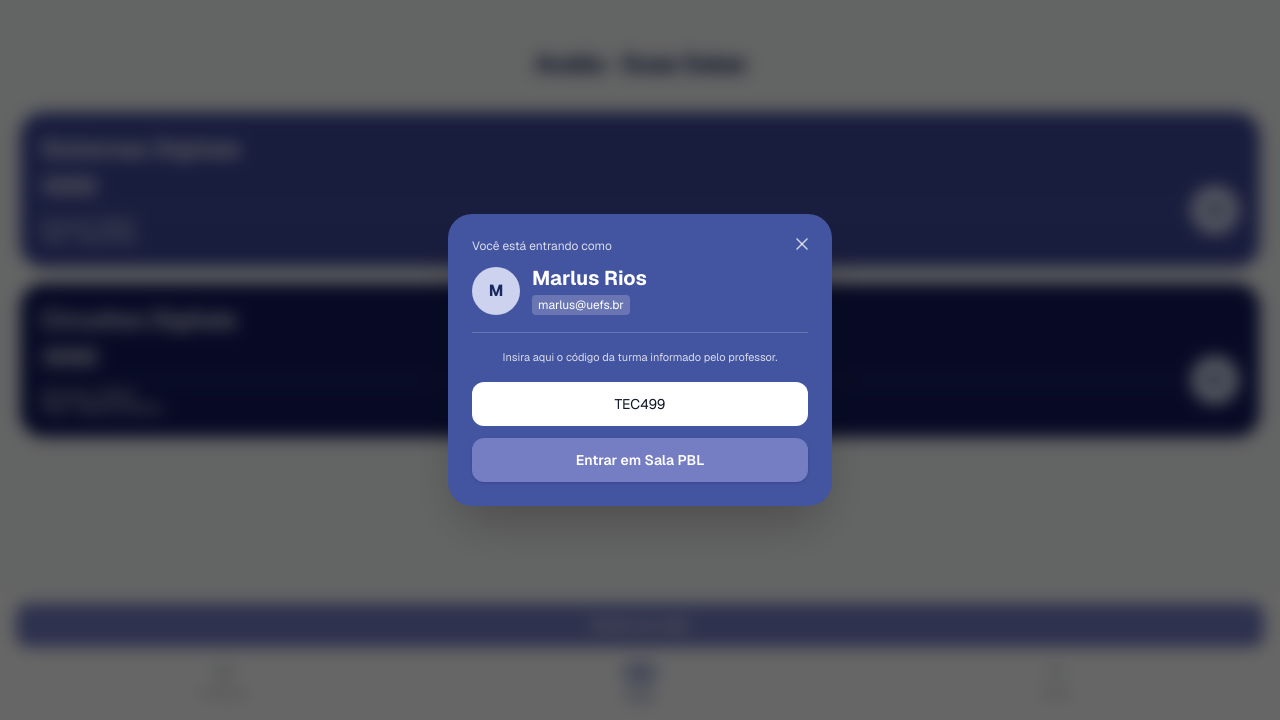
[US04] Integração da página de salas do aluno › Deve entrar pelo link de convite sem digitar o código
Click the button "Entrar em Sala PBL" at point(640, 460), box [472,438,808,482]
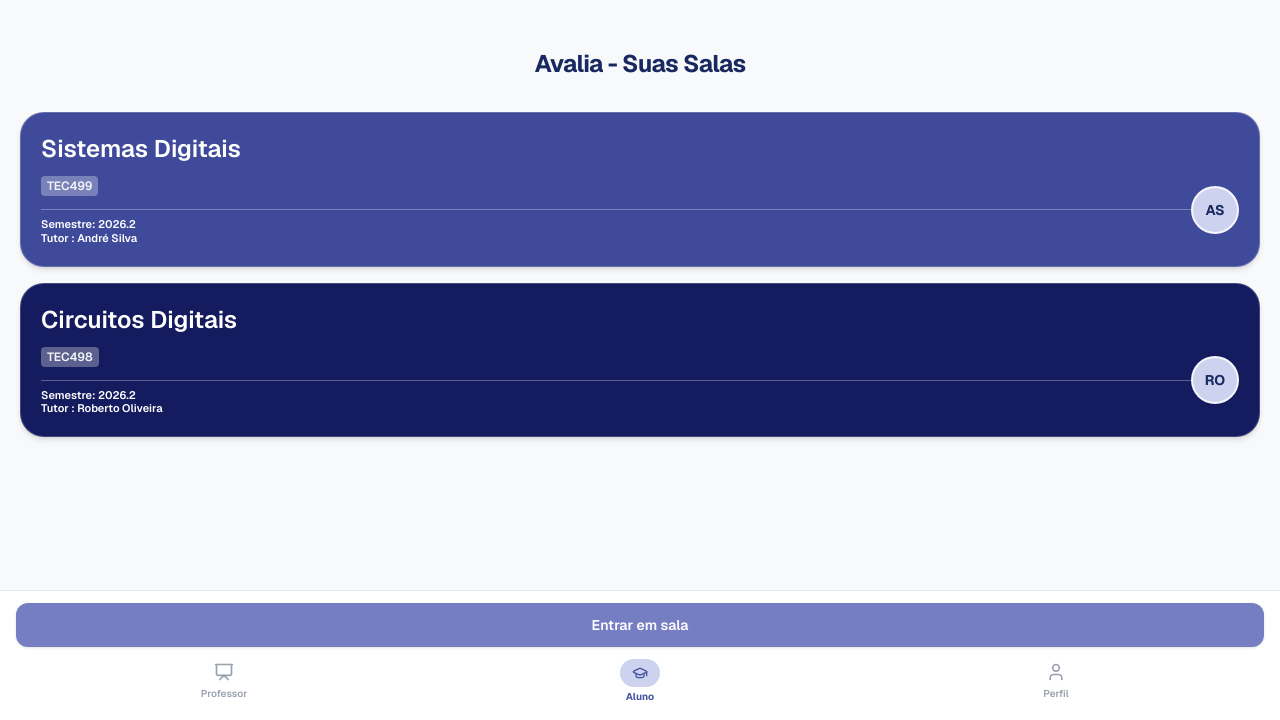
Now the dialog is gone
